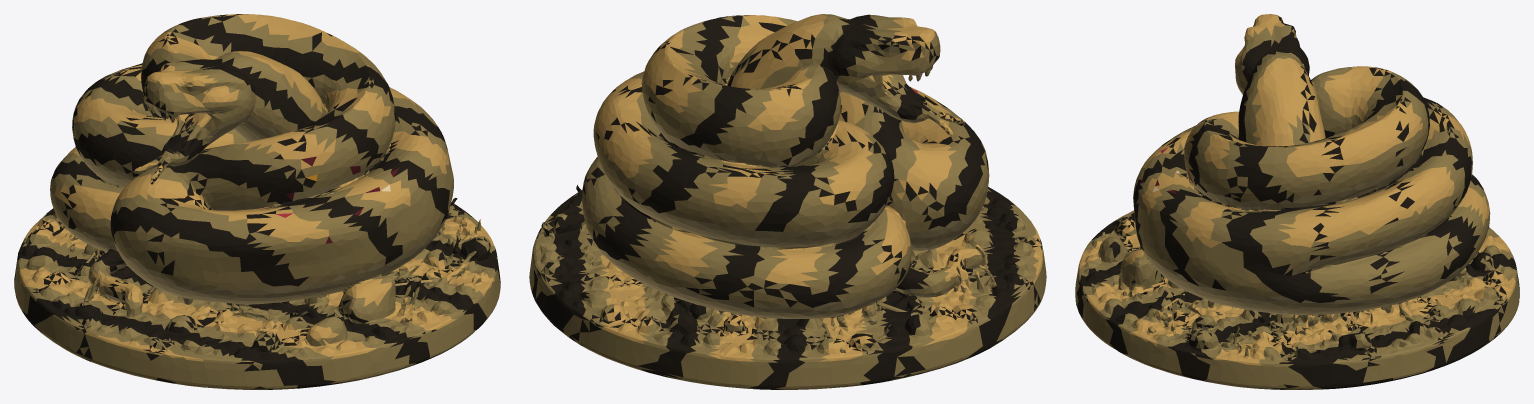
The model's file is cobra_constritora.glb.
The picture shows the model from 3 angles, left to right: view 1: azimuth 30°, elevation 25°; view 2: azimuth 150°, elevation 25°; view 3: azimuth 270°, elevation 25°; orthographic projection. The views are drawn at different scales.
Visible parts, largest first — view 1: tmpoo1a48pl.ply; view 2: tmpoo1a48pl.ply; view 3: tmpoo1a48pl.ply.
Boxes of the visible parts, box(x1,y1,x2,y2) form: tmpoo1a48pl.ply: box(14, 14, 500, 389); tmpoo1a48pl.ply: box(529, 14, 1046, 389); tmpoo1a48pl.ply: box(1075, 14, 1519, 389).
Size of the model in its own units: 1.96 by 1.14 by 1.96.
